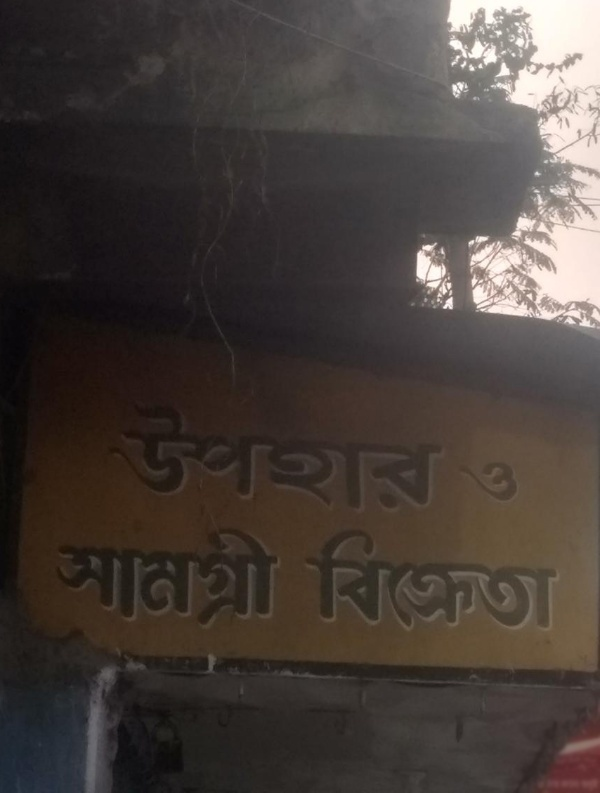text: (113, 392, 128, 518), (129, 392, 144, 518), (145, 392, 160, 518), (161, 392, 176, 518), (177, 392, 192, 518), (193, 392, 208, 518), (209, 392, 224, 518), (225, 392, 240, 518), (241, 392, 256, 518), (257, 392, 272, 518), (273, 392, 288, 518), (289, 392, 304, 518), (305, 392, 320, 518), (321, 392, 336, 518), (337, 392, 352, 518), (353, 392, 368, 518), (369, 392, 384, 518), (385, 392, 400, 518), (401, 392, 416, 518), (417, 392, 432, 518), (433, 392, 448, 518), (65, 523, 80, 633), (81, 523, 96, 633), (97, 523, 112, 633), (113, 523, 128, 633), (129, 523, 144, 633), (145, 523, 160, 633), (161, 523, 176, 633), (177, 523, 192, 633), (193, 523, 208, 633), (209, 523, 224, 633), (225, 523, 240, 633), (241, 523, 256, 633), (257, 523, 272, 633), (305, 526, 320, 635), (321, 526, 336, 635), (337, 526, 352, 635), (353, 526, 368, 635), (369, 526, 384, 635), (385, 526, 400, 635), (401, 526, 416, 635), (417, 526, 432, 635), (433, 526, 448, 635), (449, 526, 464, 635), (465, 526, 480, 635), (481, 526, 496, 635), (497, 526, 512, 635), (513, 526, 528, 635), (529, 526, 544, 635), (545, 526, 560, 635), (52, 523, 64, 633), (273, 523, 284, 633), (104, 392, 112, 518), (465, 460, 480, 503), (481, 460, 496, 503), (497, 460, 512, 503), (301, 526, 304, 635), (457, 460, 464, 503), (513, 460, 520, 503), (449, 392, 450, 518), (561, 526, 562, 635)
